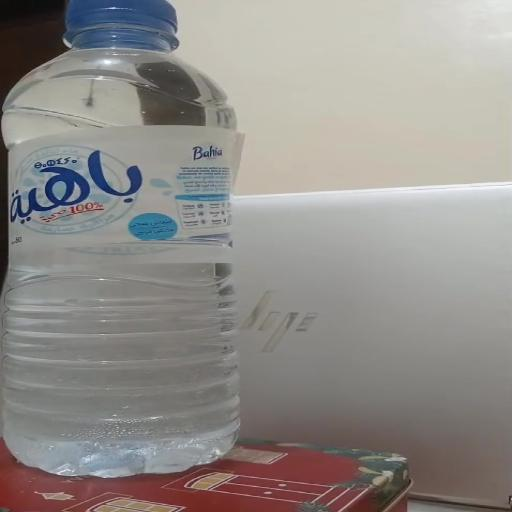bouteille conformite: (7, 18, 255, 474)
